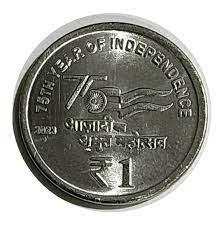coin: (12, 7, 208, 212)
